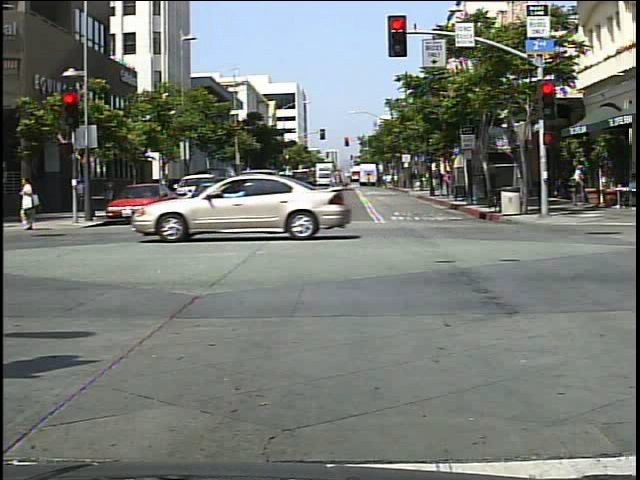person: (15, 172, 47, 236), (567, 161, 589, 212)
